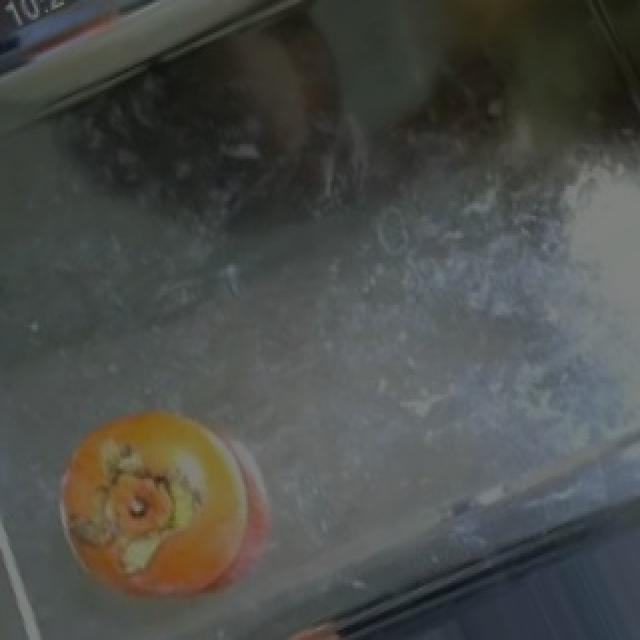Fruit: (40, 387, 278, 635)
